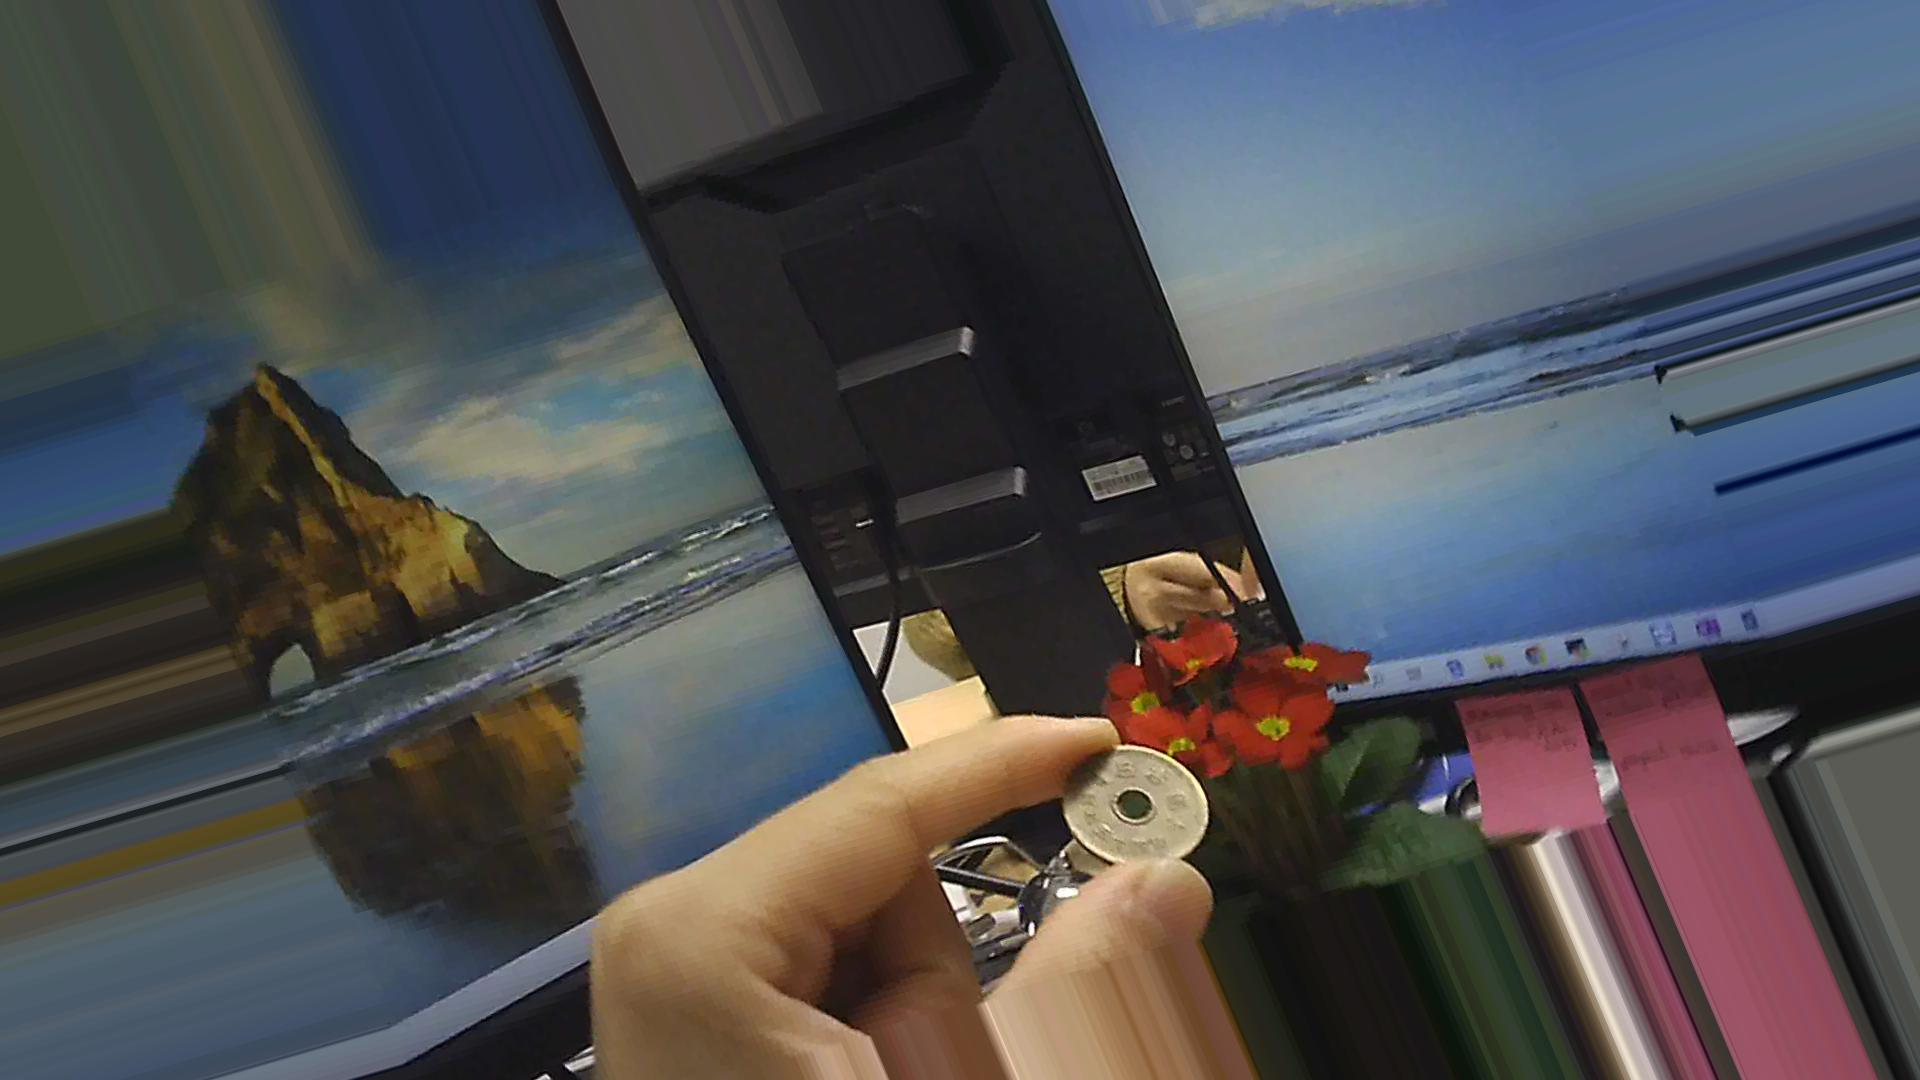5 Yen: (1063, 744, 1207, 861)
